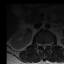CCS_normal: (43, 41, 45, 51)
LFS_normal: (48, 40, 50, 48)
LLS_normal: (45, 40, 47, 49)
RFS_normal: (38, 40, 41, 48)
RLS_normal: (41, 41, 43, 48)
